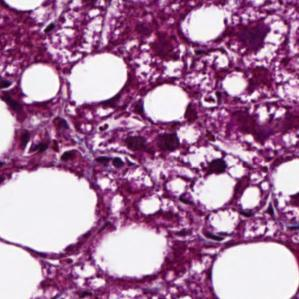inflammation: (223, 13, 289, 64), (87, 151, 141, 178)
